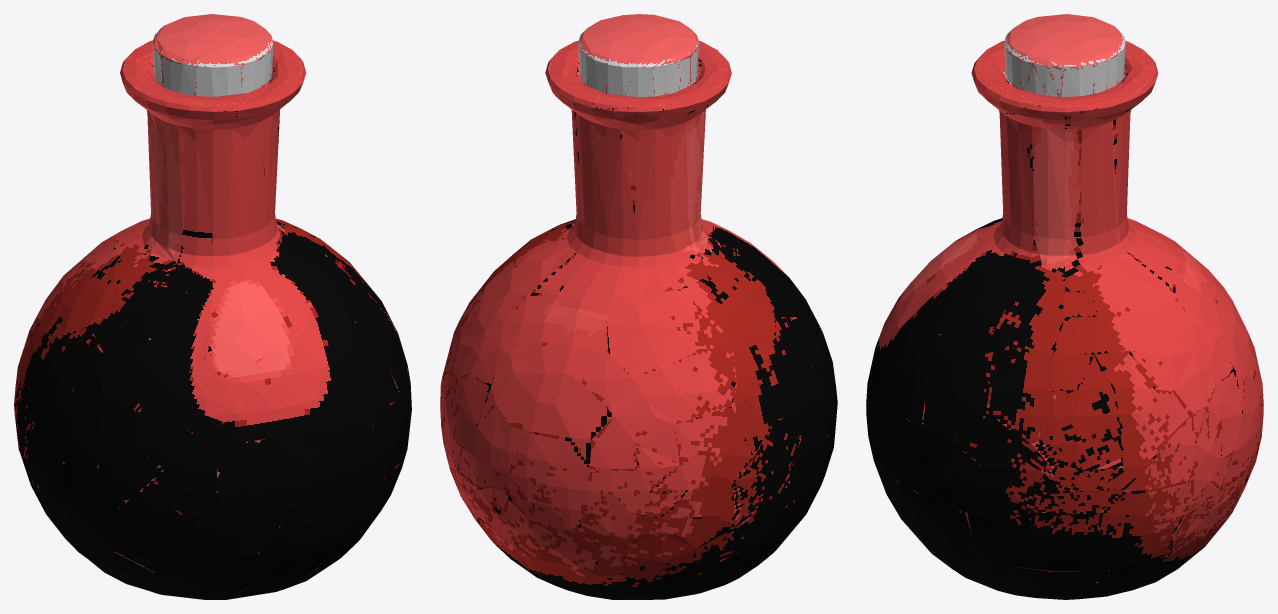
The picture shows the model from 3 angles, left to right: view 1: azimuth 30°, elevation 25°; view 2: azimuth 150°, elevation 25°; view 3: azimuth 270°, elevation 25°; orthographic projection.
Parts seen in each view (by area): view 1: OBJ0bb; view 2: OBJ0bb; view 3: OBJ0bb.
Part boxes in pixels (bbox=[...]): OBJ0bb: bbox=[14, 14, 411, 599]; OBJ0bb: bbox=[440, 14, 837, 599]; OBJ0bb: bbox=[866, 14, 1263, 599].
Size of the model in its own units: 0.1627 by 0.236 by 0.1627.
1 material, 1 textured.
